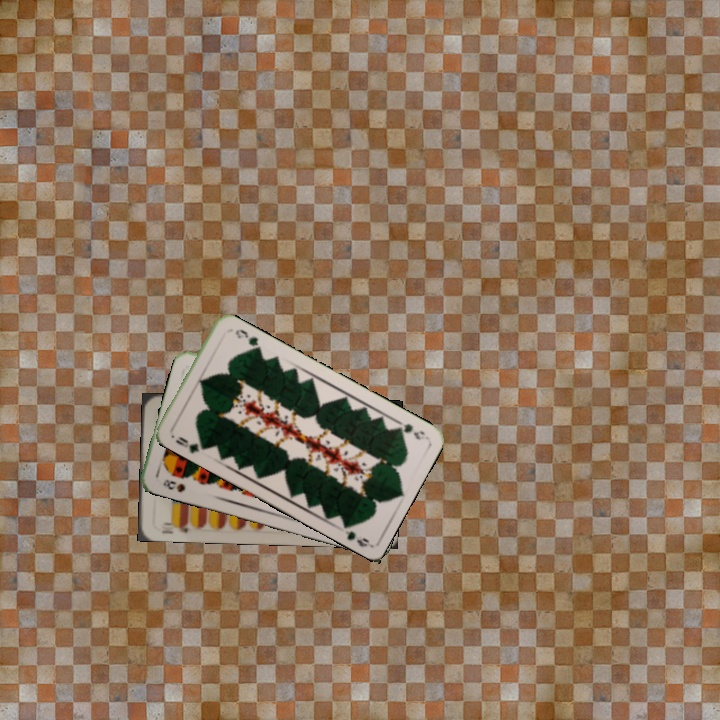E10: (159, 518, 191, 535)
G9: (392, 416, 427, 442), (171, 432, 208, 456)
S8: (159, 475, 188, 495)
